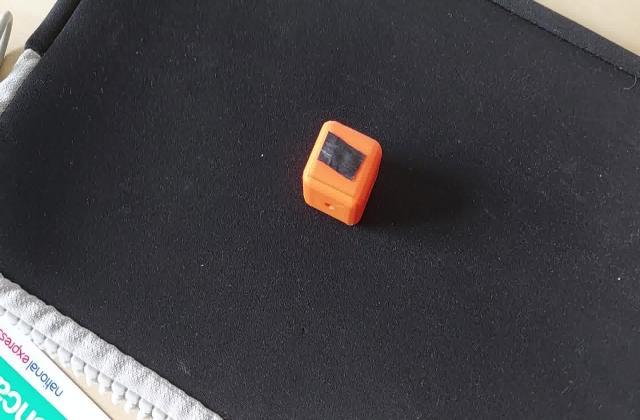black: (316, 139, 372, 184)
sticker: (299, 118, 385, 231)
